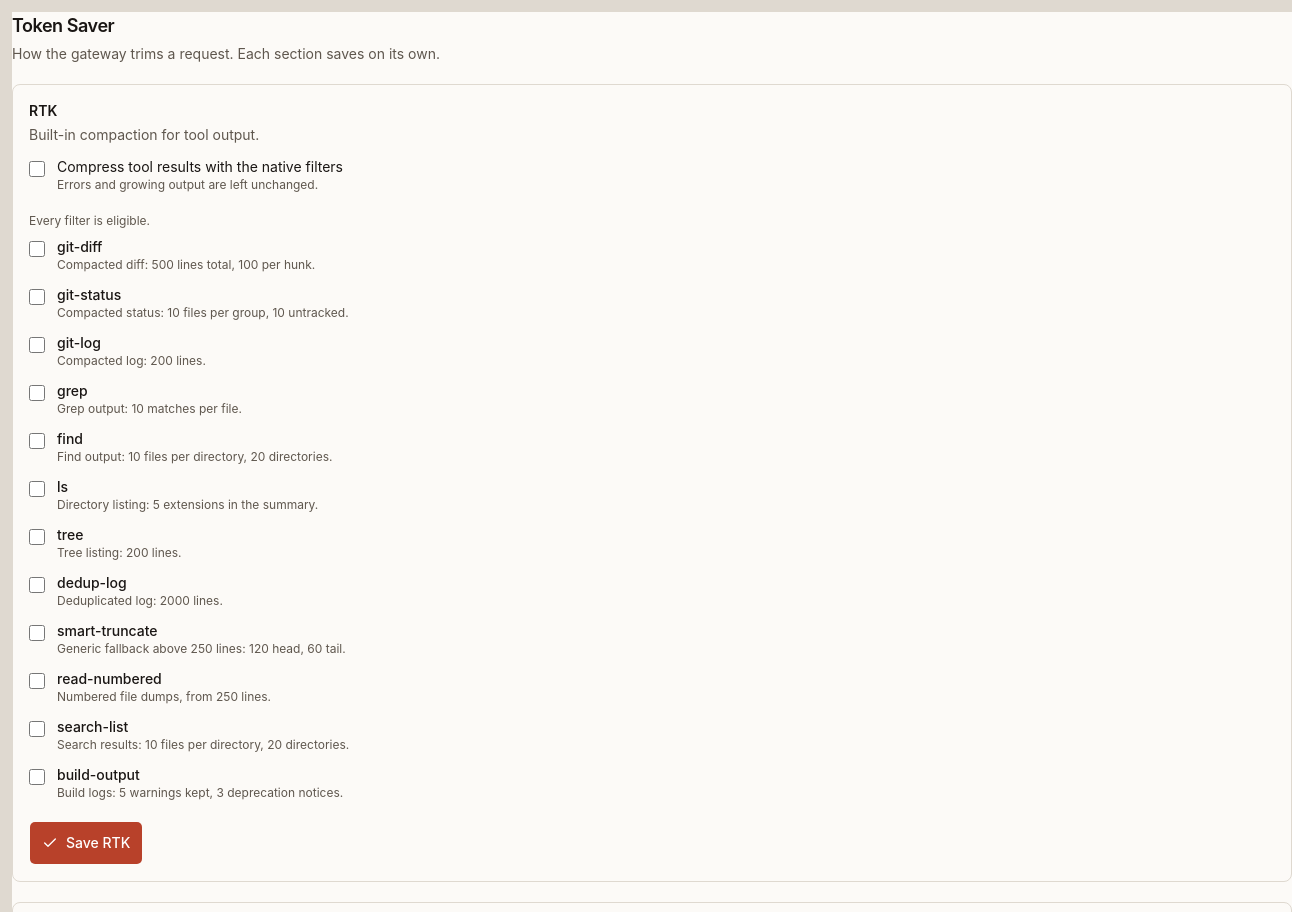
Test: Token saver control states › makes the unsaved discard a control rather than a bare underline
The width and height of the screenshot is (1292, 912).
expect the heading "RTK" is shown: met, box [29, 102, 57, 119]
Click the checkbox labelled "Compress tool results": (37, 169) [29, 161, 45, 177]
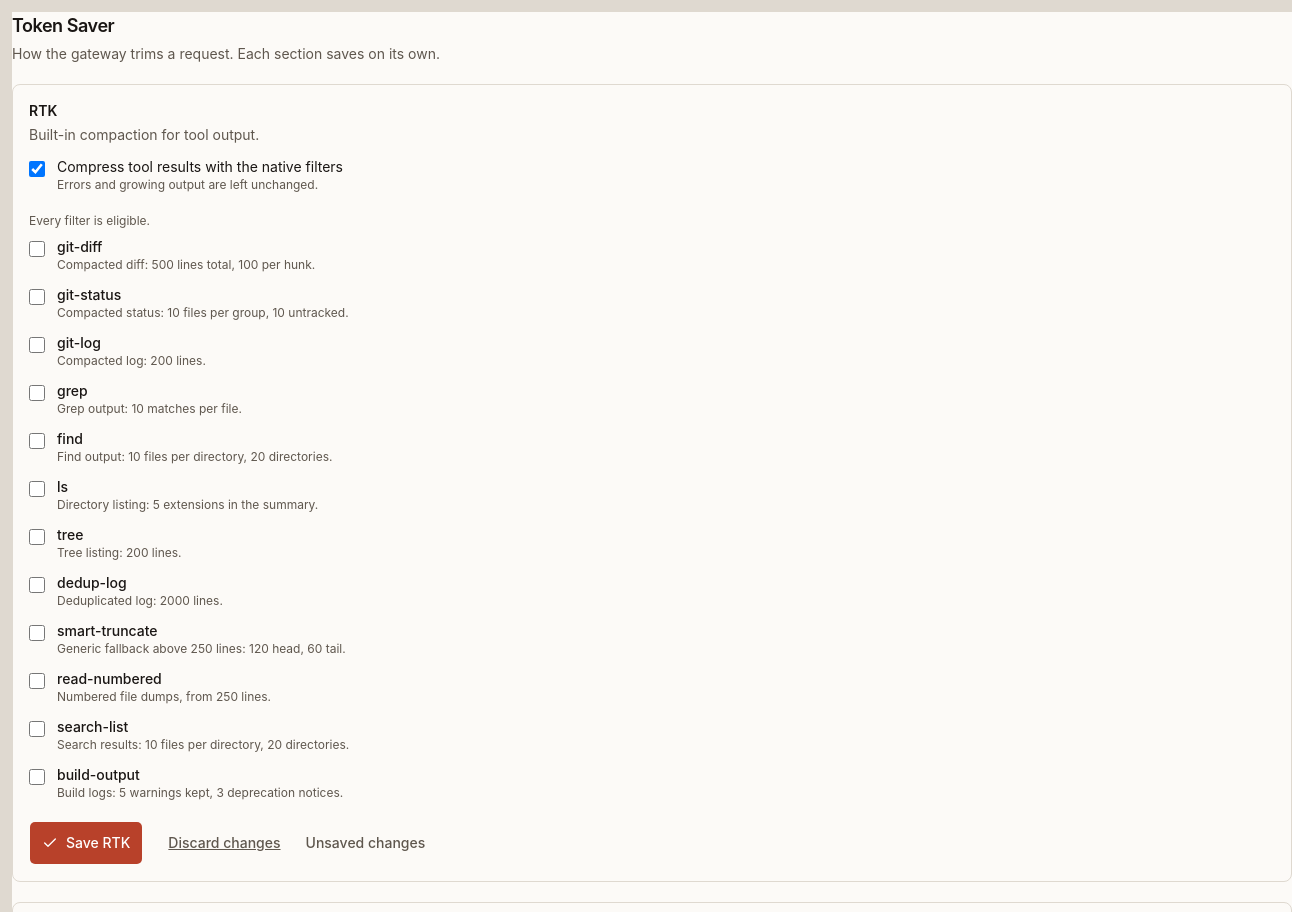
expect the number of buttons "Discard changes" is 1: met, box [155, 821, 294, 865]
